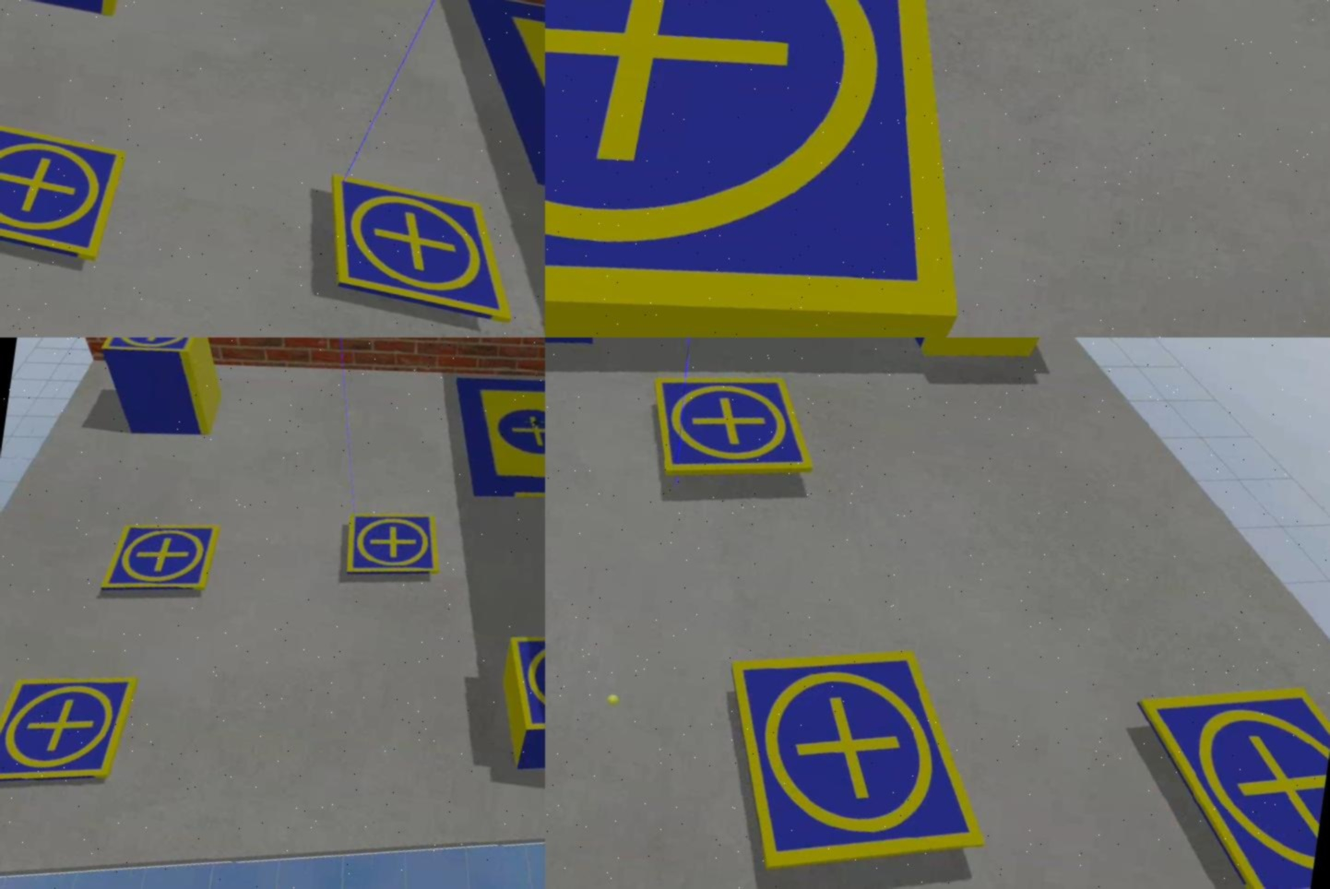large_base: (440, 1, 545, 227), (443, 363, 545, 519)
small_base: (545, 1, 1020, 338), (704, 623, 1015, 889), (1109, 663, 1330, 889), (317, 175, 530, 330), (640, 360, 827, 498), (1, 657, 136, 802), (1, 117, 125, 264), (100, 510, 219, 609), (336, 508, 443, 590), (498, 622, 545, 747), (101, 338, 205, 363)
